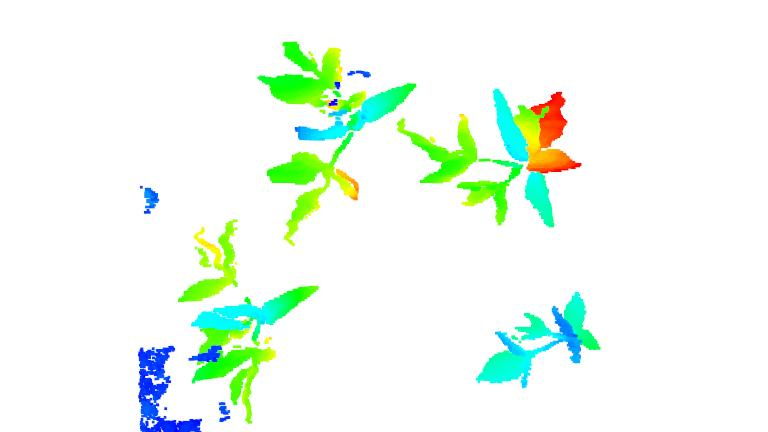mungbean: (253, 37, 421, 234), (397, 78, 590, 226), (175, 220, 316, 414), (475, 292, 608, 390)
